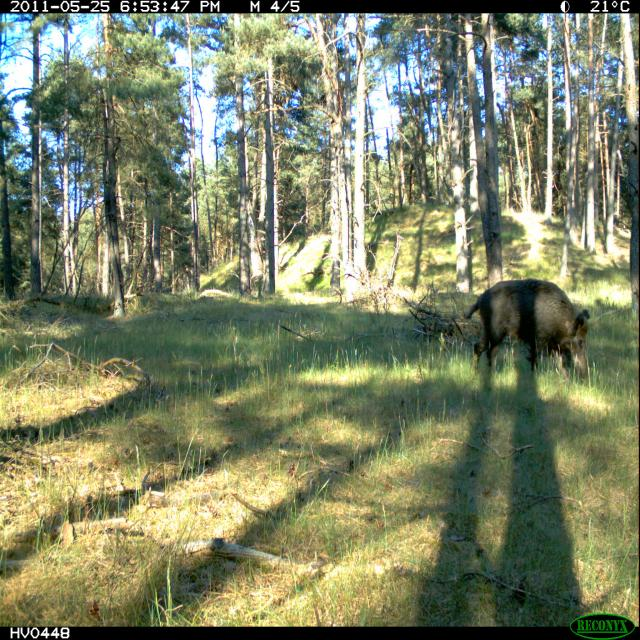boar: (448, 260, 609, 410)
